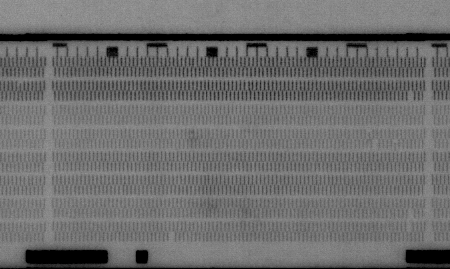Broken hole: (405, 208, 416, 233), (370, 139, 383, 153), (406, 89, 417, 101), (167, 230, 177, 242)
Oblique printing: (390, 137, 402, 154), (14, 80, 27, 94)
